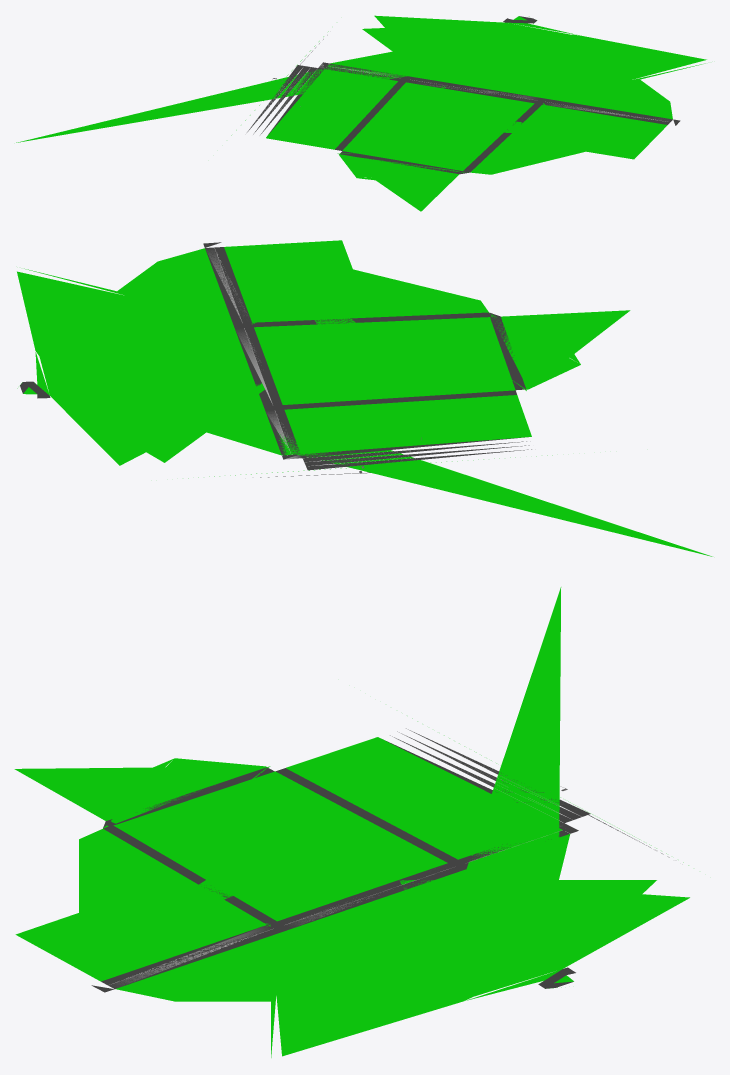
3 views of the same model, one above another, from view 1: azimuth 30°, elevation 25°; view 2: azimuth 150°, elevation 25°; view 3: azimuth 270°, elevation 25° (orthographic). The views are drawn at different scales.
Bounding box in the file's own units: 351 × 2.5 × 219.
